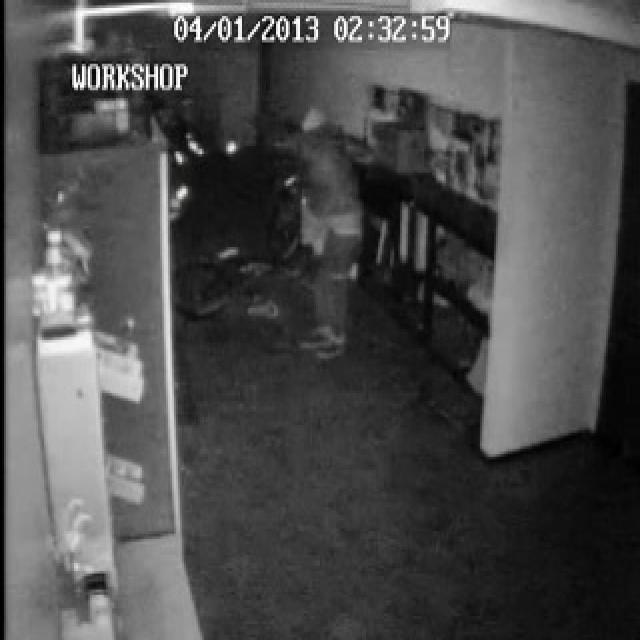thief: (279, 91, 361, 354)
